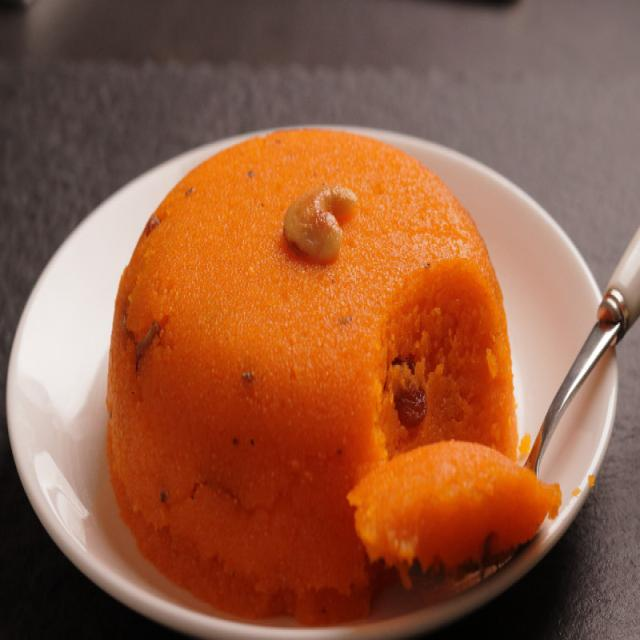kesari bath: (102, 111, 560, 640)
